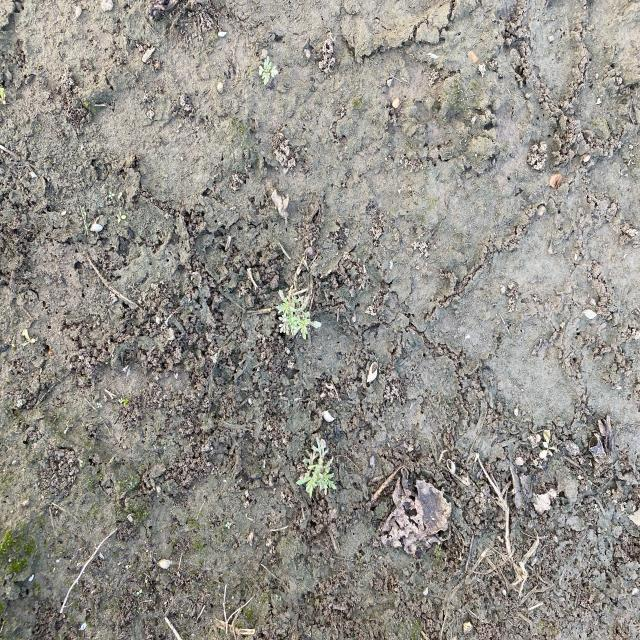Ragweed: (295, 436, 338, 500), (275, 289, 322, 341), (258, 54, 280, 87)
